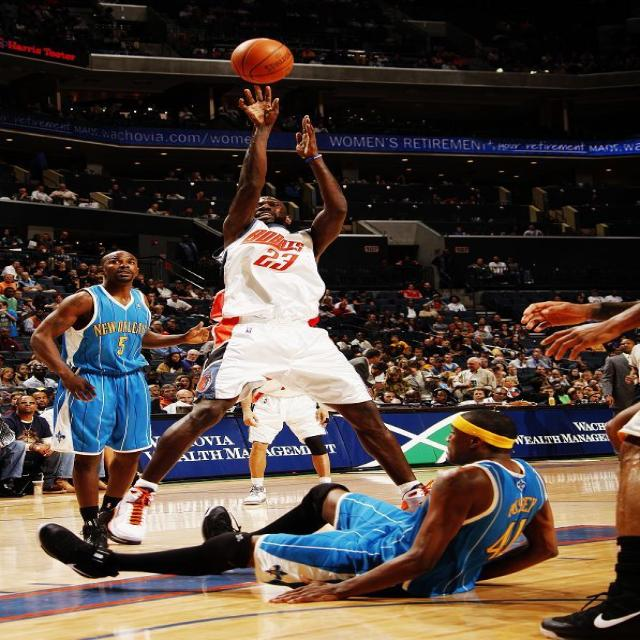10-: (10, 82, 639, 627)
down: (38, 403, 570, 598)
